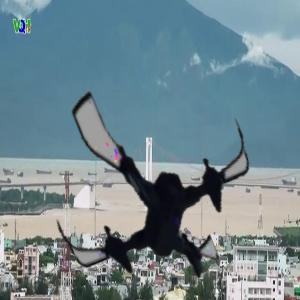drone: (40, 74, 262, 296)
